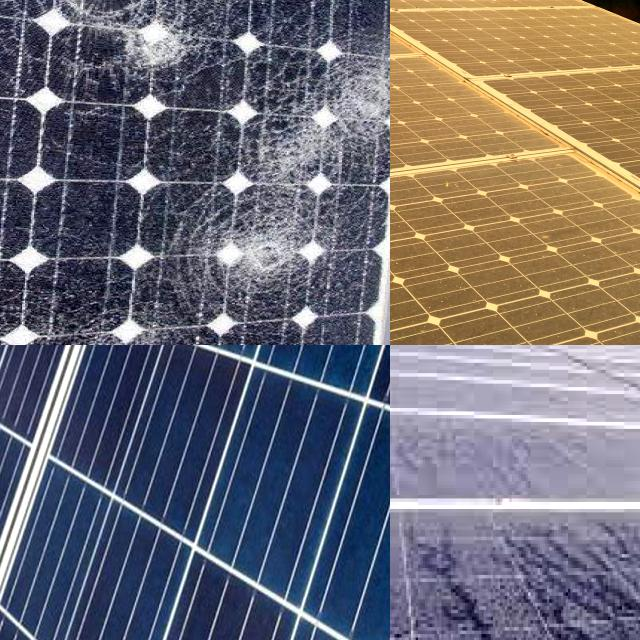crack: (0, 345, 390, 640)
dust: (421, 524, 549, 640), (568, 533, 640, 640), (390, 511, 425, 640)
hotspot: (162, 161, 340, 320), (55, 0, 210, 85), (302, 58, 390, 149), (146, 0, 368, 34), (0, 0, 74, 51), (81, 297, 149, 345)
